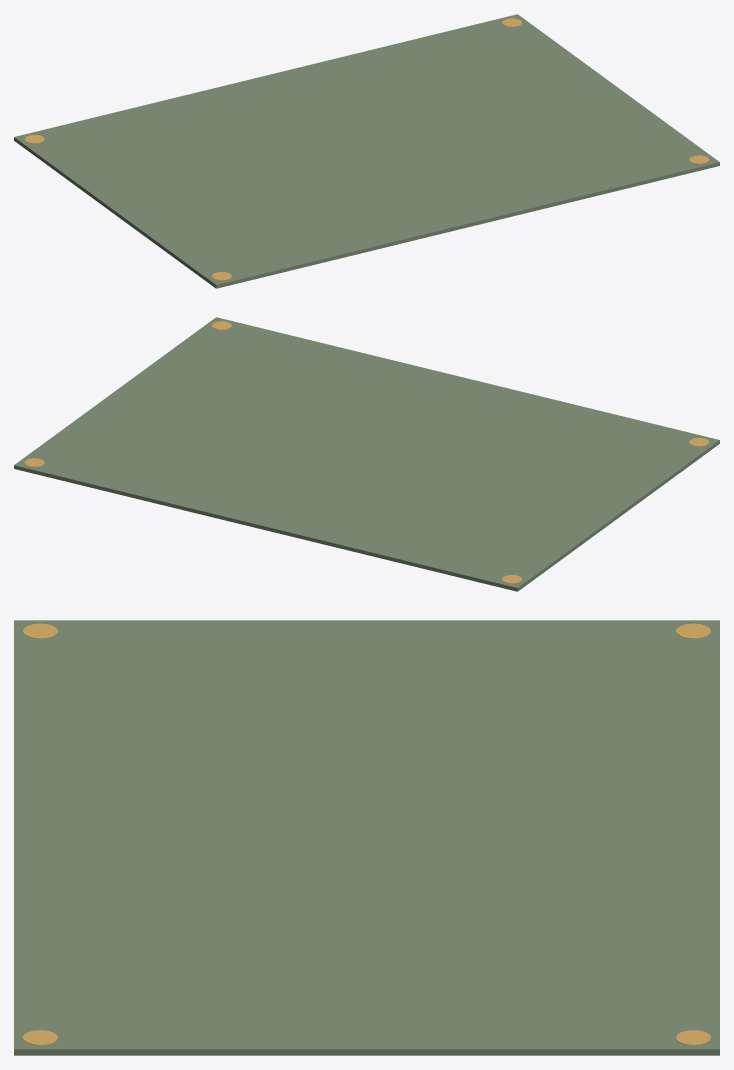
File: 077_L101_PCB_FR4_Core.glb
3 views of the same model, one above another, from view 1: azimuth 30°, elevation 25°; view 2: azimuth 150°, elevation 25°; view 3: azimuth 270°, elevation 25° (orthographic). The views are drawn at different scales.
Parts seen in each view (by area): view 1: FR4_6Layer_Dielectric_0; view 2: FR4_6Layer_Dielectric_0; view 3: FR4_6Layer_Dielectric_0.
Part boxes in pixels (x1,y1,x2,y2): FR4_6Layer_Dielectric_0: (14,14,719,288); FR4_6Layer_Dielectric_0: (14,317,719,591); FR4_6Layer_Dielectric_0: (14,620,719,1055).
Bounding box in the file's own units: 0.23 × 0.00173 × 0.16.
